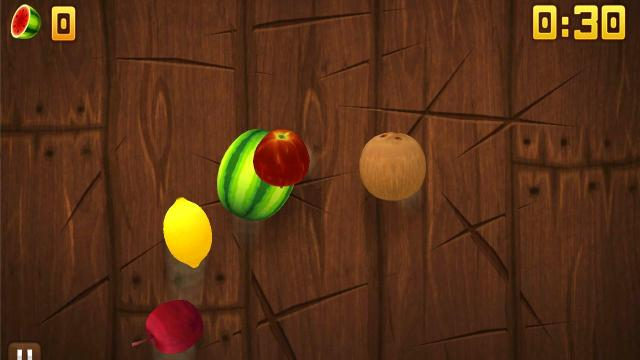fruit: (217, 127, 307, 219), (358, 132, 426, 200), (133, 300, 205, 354), (162, 195, 214, 269), (254, 127, 312, 190)
ignore: (9, 3, 43, 41)
